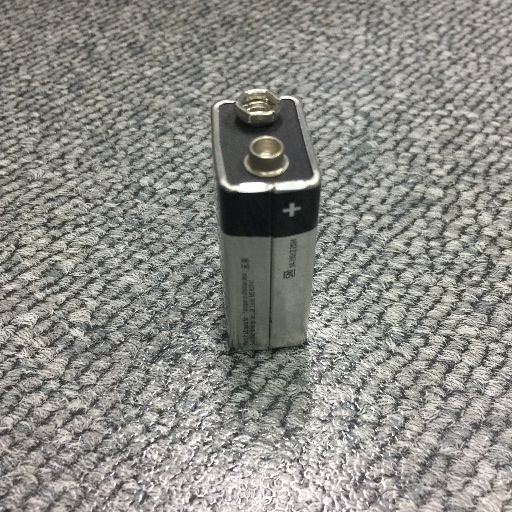Battery_3: (196, 83, 346, 372)
